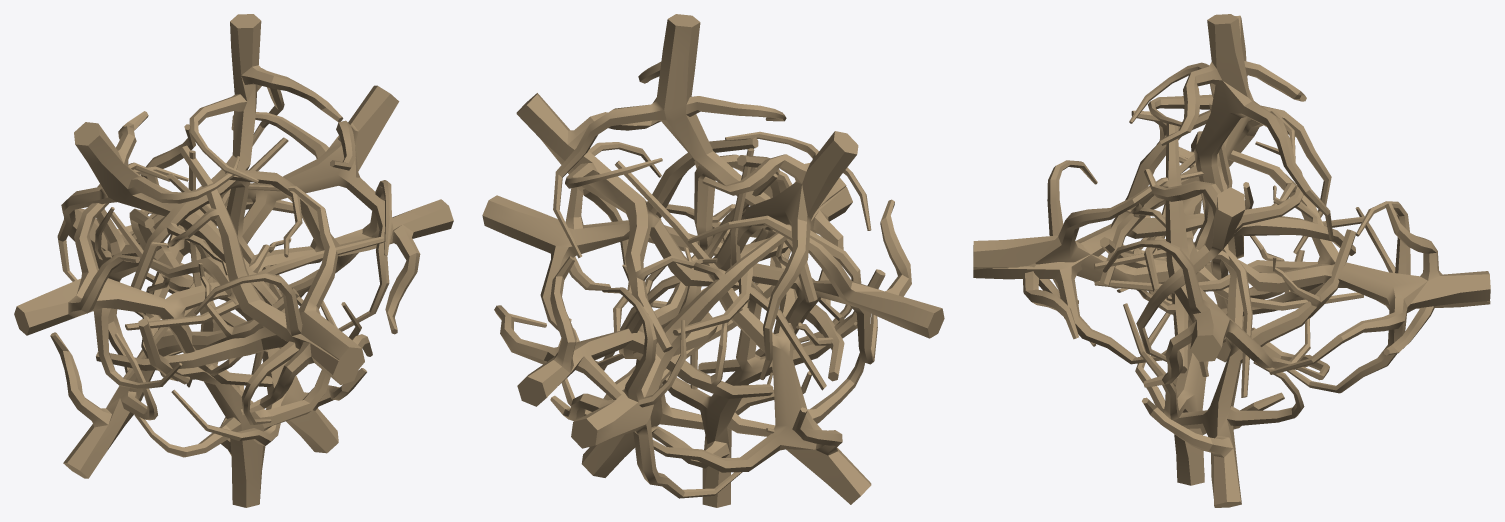
File: Tumbleweed.fbx
The picture shows the model from 3 angles, left to right: view 1: azimuth 30°, elevation 25°; view 2: azimuth 150°, elevation 25°; view 3: azimuth 270°, elevation 25°; orthographic projection. The views are drawn at different scales.
Parts seen in each view (by area): view 1: pCylinder57; view 2: pCylinder57; view 3: pCylinder57.
Boxes of the visible parts, left/top/right/bottom form: pCylinder57: left=14, top=14, right=453, bottom=507; pCylinder57: left=482, top=14, right=944, bottom=507; pCylinder57: left=973, top=14, right=1490, bottom=507.
Size of the model in its own units: 94.34 by 98.36 by 98.38.
